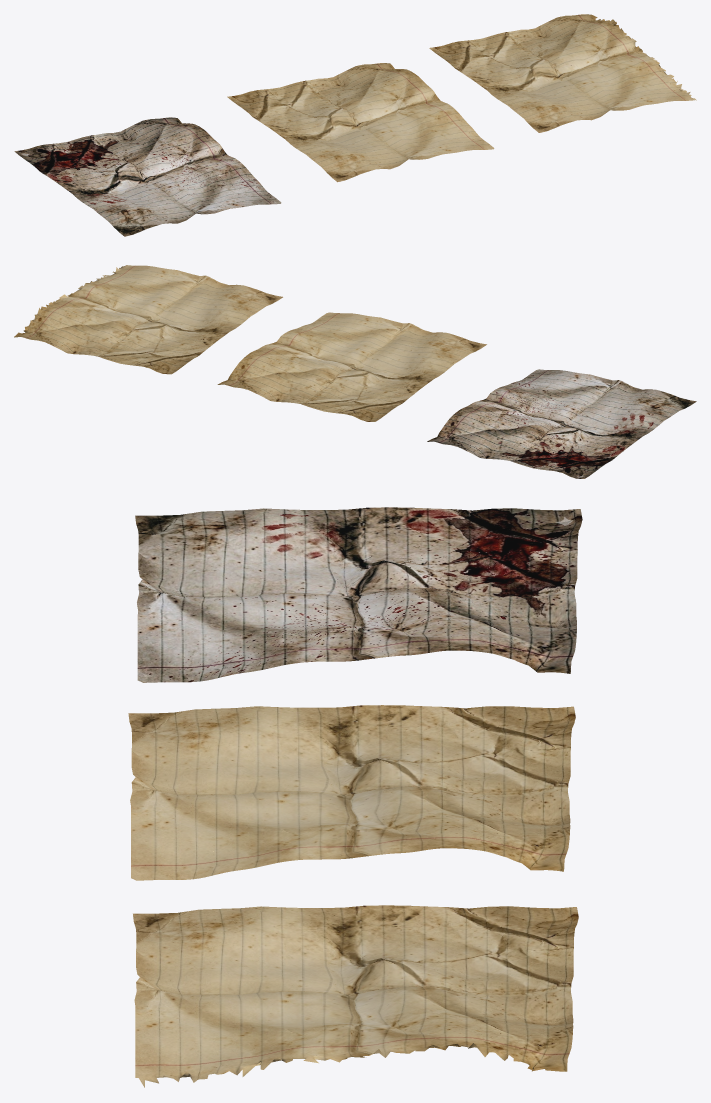
Rendered from MEMO.fbx.
3 renders of one model, top to bottom at view 1: azimuth 30°, elevation 25°; view 2: azimuth 150°, elevation 25°; view 3: azimuth 270°, elevation 25°, orthographic. The views are drawn at different scales.
Visible parts, largest first — view 1: 평면, 평면.002, 평면.001; view 2: 평면.002, 평면, 평면.001; view 3: 평면, 평면.002, 평면.001.
Part boxes in pixels (box(x1,y1,x2,y2)): 평면: box(14, 117, 281, 236); 평면.002: box(227, 63, 494, 182); 평면.001: box(429, 14, 696, 132); 평면.002: box(217, 312, 486, 421); 평면: box(427, 369, 696, 478); 평면.001: box(14, 265, 282, 374); 평면: box(135, 507, 582, 682); 평면.002: box(128, 705, 575, 880); 평면.001: box(133, 905, 578, 1087).
Size of the model in its own units: 1210 by 44.14 by 413.
Materials: 3 (3 with a texture image).
